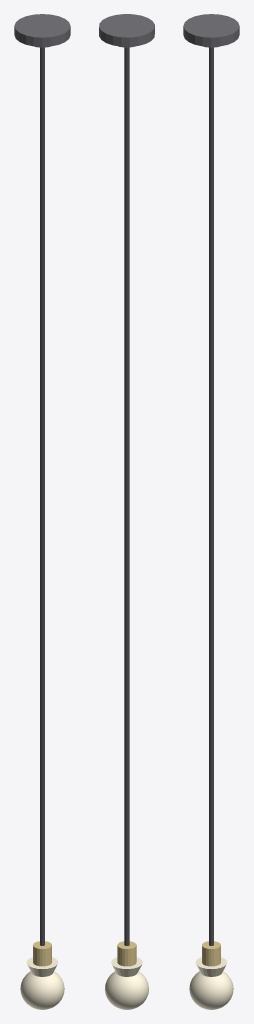
File: Bombilla.fbx
The picture shows the model from 3 angles, left to right: view 1: azimuth 90°, elevation 25°; view 2: azimuth 150°, elevation 25°; view 3: azimuth 270°, elevation 25°; orthographic projection.
Visible parts, largest first — view 1: Bombilla; view 2: Bombilla; view 3: Bombilla.
Part boxes in pixels (x1,y1,x2,y2): Bombilla: (14, 14, 70, 1009); Bombilla: (99, 14, 154, 1009); Bombilla: (183, 14, 239, 1009).
Size of the model in its own units: 7.6 by 147 by 7.6.
